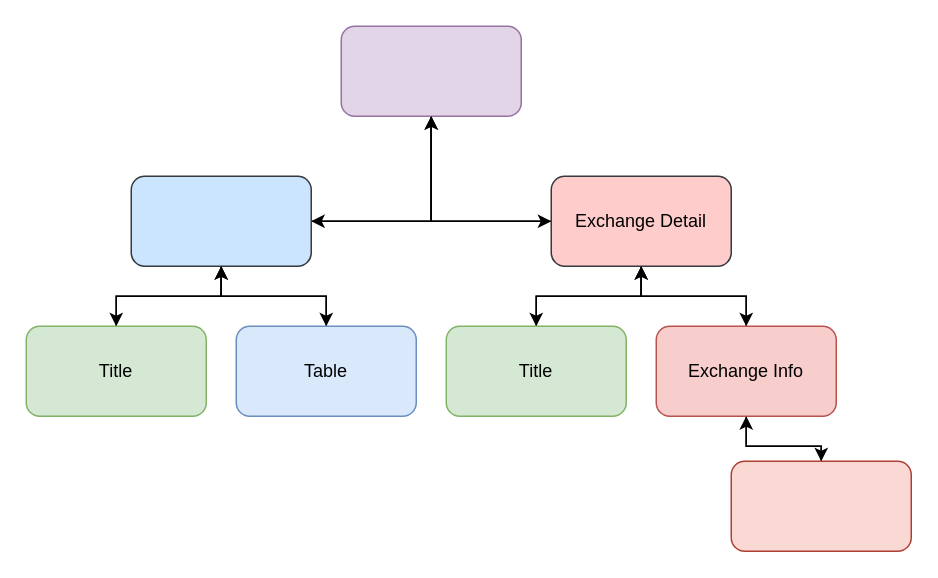
Image size: 938x578. Some labels were removed from this diagram. Each missing label, with the centre of its shape:
"App" goes at point (430, 70).
"Exchange Link" goes at point (820, 505).
"Home" goes at point (220, 220).
